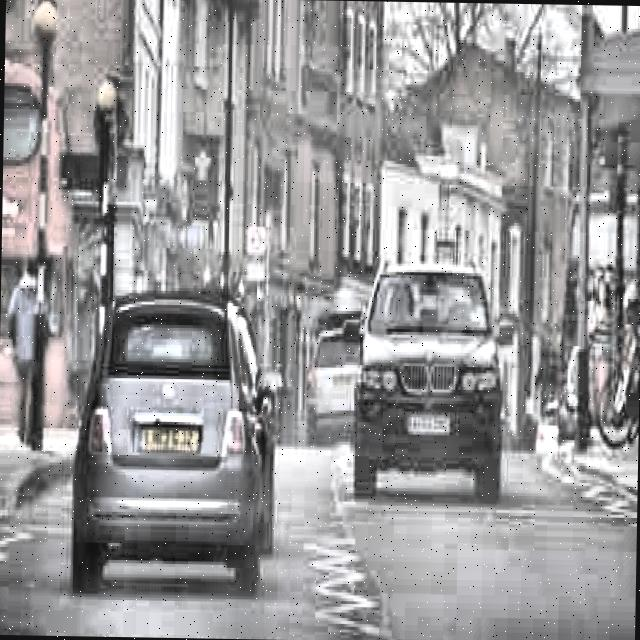license_plate: (134, 417, 201, 456), (408, 410, 450, 437)
